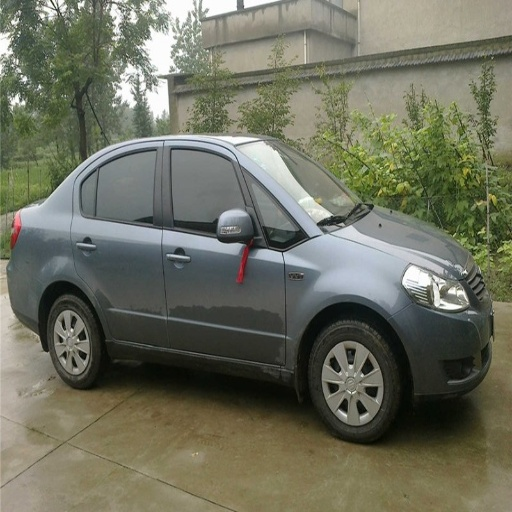back_right_door: (75, 142, 167, 348)
front_bumper: (396, 296, 494, 395)
front_right_door: (166, 142, 282, 367)
front_right_light: (402, 262, 472, 312)
tailgate: (324, 58, 438, 102)
